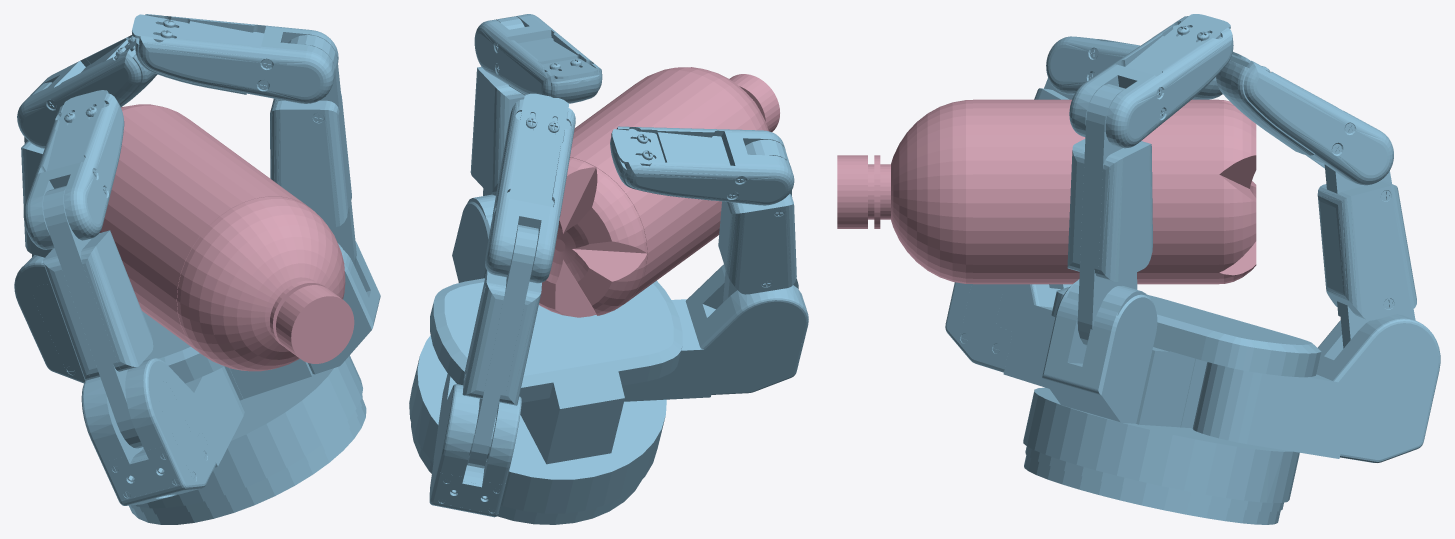
The picture shows the model from 3 angles, left to right: view 1: azimuth 30°, elevation 25°; view 2: azimuth 150°, elevation 25°; view 3: azimuth 270°, elevation 25°; orthographic projection. The views are drawn at different scales.
Parts seen in each view (by area): view 1: world; view 2: world; view 3: world.
Part boxes in pixels (<box>): world: <box>14,14,380,524</box>; world: <box>409,14,808,524</box>; world: <box>837,14,1440,524</box>.
Bounding box in the file's own units: 0.1363 × 0.173 × 0.1966.
